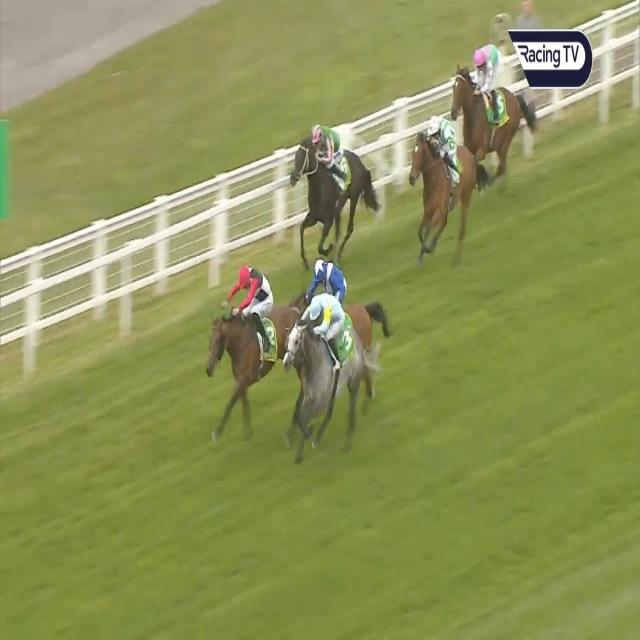horses-racing: (288, 110, 378, 258), (287, 299, 368, 460), (214, 264, 292, 414), (447, 31, 523, 171), (403, 112, 478, 246), (307, 249, 371, 336)
